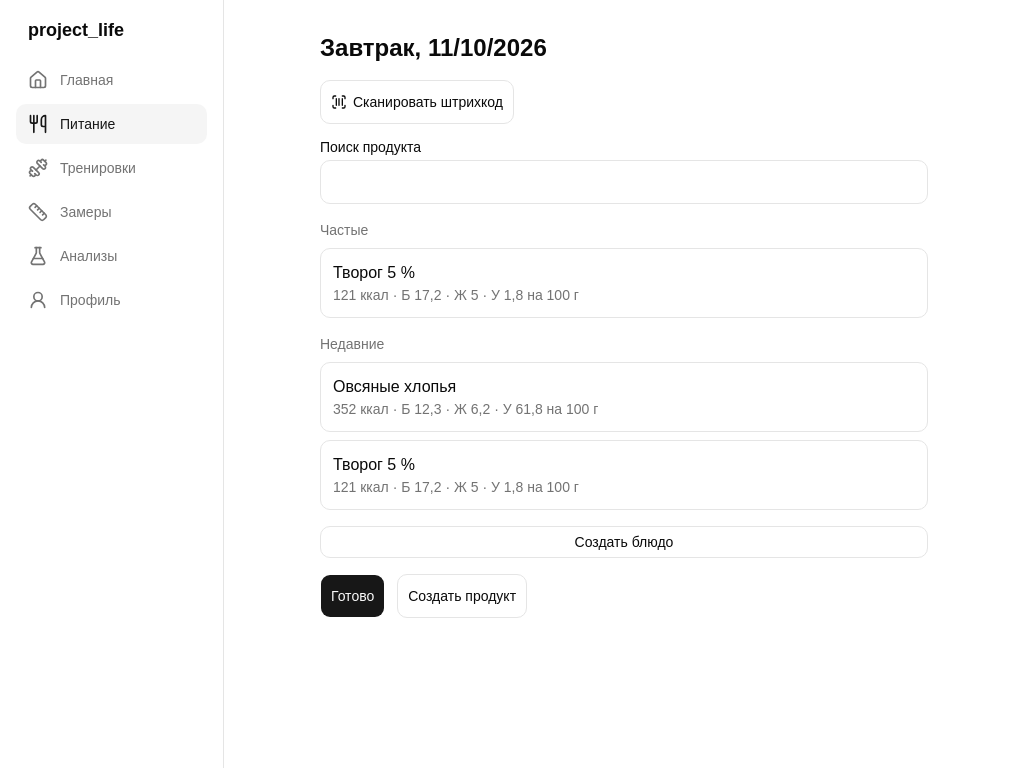
Test: добавление в приём пищи › говорит, когда ничего не найдено
The image size is (1024, 768).
Type "кефир" into the search field labelled "Поиск продукта" at {"x": 624, "y": 182}, box [320,160,928,204]
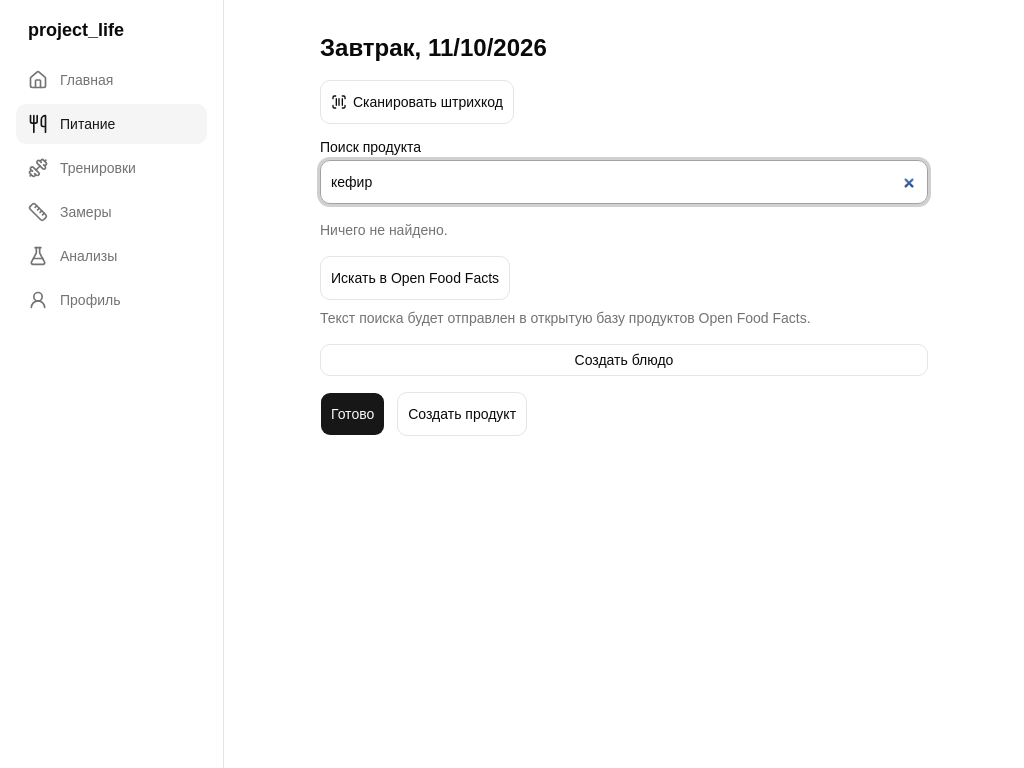
Now the text "Ничего не найдено." is shown, box [320,222,448,238]
Now the heading "Частые" is gone
